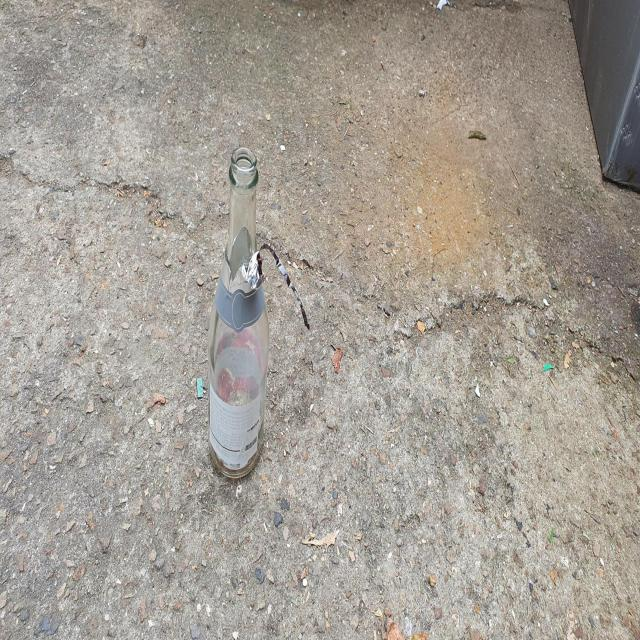glass: (208, 148, 269, 478)
